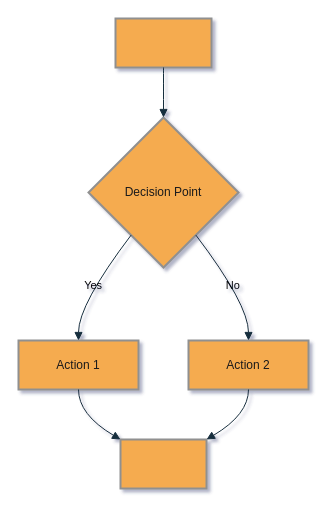
The diagram is 332 pixels wide and 512 high, and some of its shapes have lost their labels. The centre of each missing label's shape, as x and y in pixels:
"End" goes at point (163, 463).
"Start" goes at point (163, 42).
